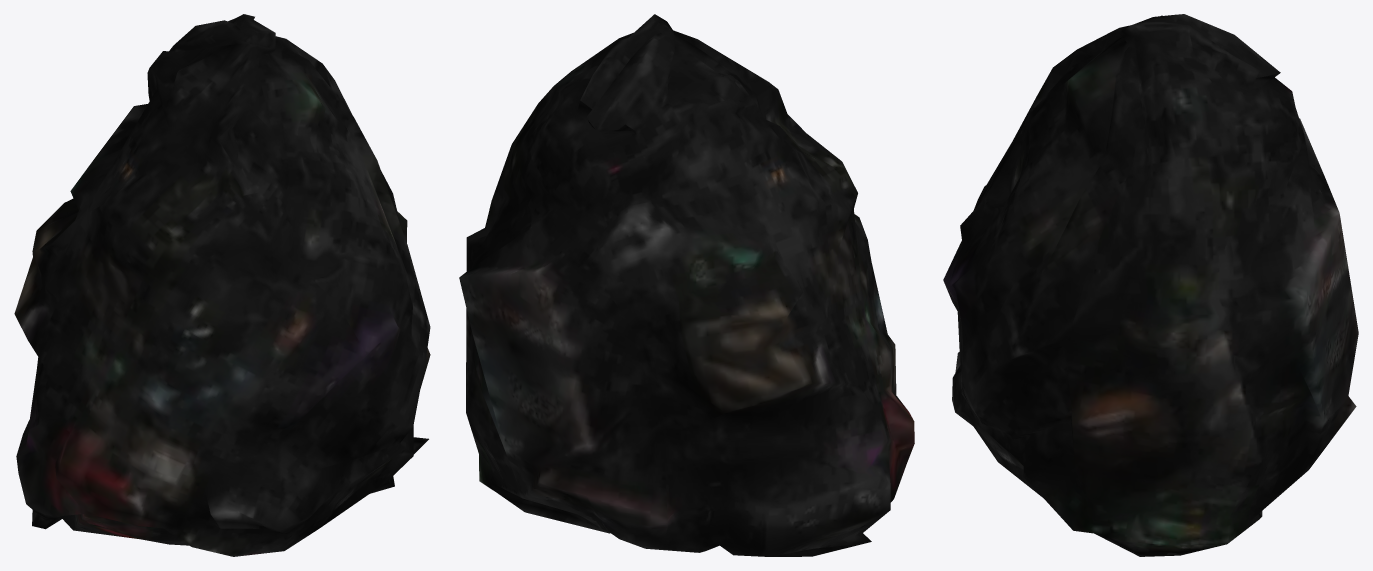
File: trashbag.glb
3 renders of one model, left to right at view 1: azimuth 30°, elevation 25°; view 2: azimuth 150°, elevation 25°; view 3: azimuth 270°, elevation 25°, orthographic. The views are drawn at different scales.
Parts seen in each view (by area): view 1: trashbag; view 2: trashbag; view 3: trashbag.
Boxes of the visible parts, bbox=[...] form: trashbag: bbox=[14, 14, 430, 556]; trashbag: bbox=[459, 14, 914, 556]; trashbag: bbox=[943, 14, 1358, 556].
Bounding box in the file's own units: 0.5009 × 0.5437 × 0.4428.
Materials: 1 (1 with a texture image).
